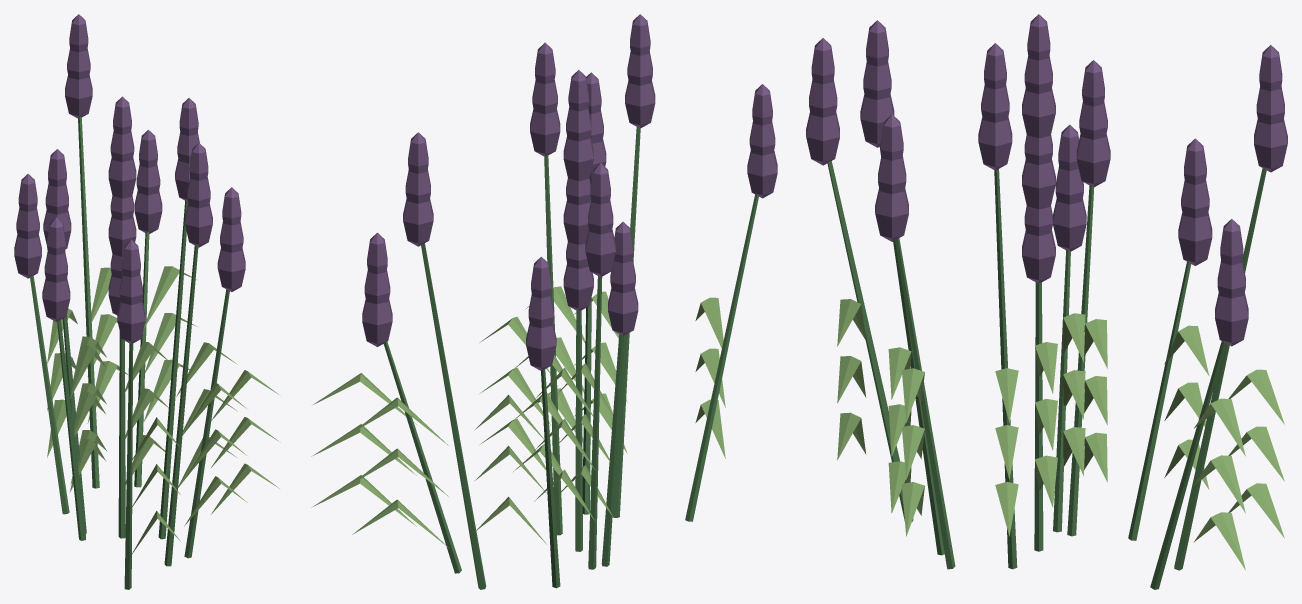
Rendered from b08_lavender_patch.glb.
3 renders of one model, left to right at view 1: azimuth 30°, elevation 25°; view 2: azimuth 150°, elevation 25°; view 3: azimuth 270°, elevation 25°, orthographic. The views are drawn at different scales.
Parts seen in each view (by area): view 1: b08_lavender_patch; view 2: b08_lavender_patch; view 3: b08_lavender_patch.
Part boxes in pixels (x1,y1,x2,y2): b08_lavender_patch: (14,14,280,589); b08_lavender_patch: (311,14,777,589); b08_lavender_patch: (806,14,1287,589).
Size of the model in its own units: 0.4564 by 0.7556 by 0.6143.
